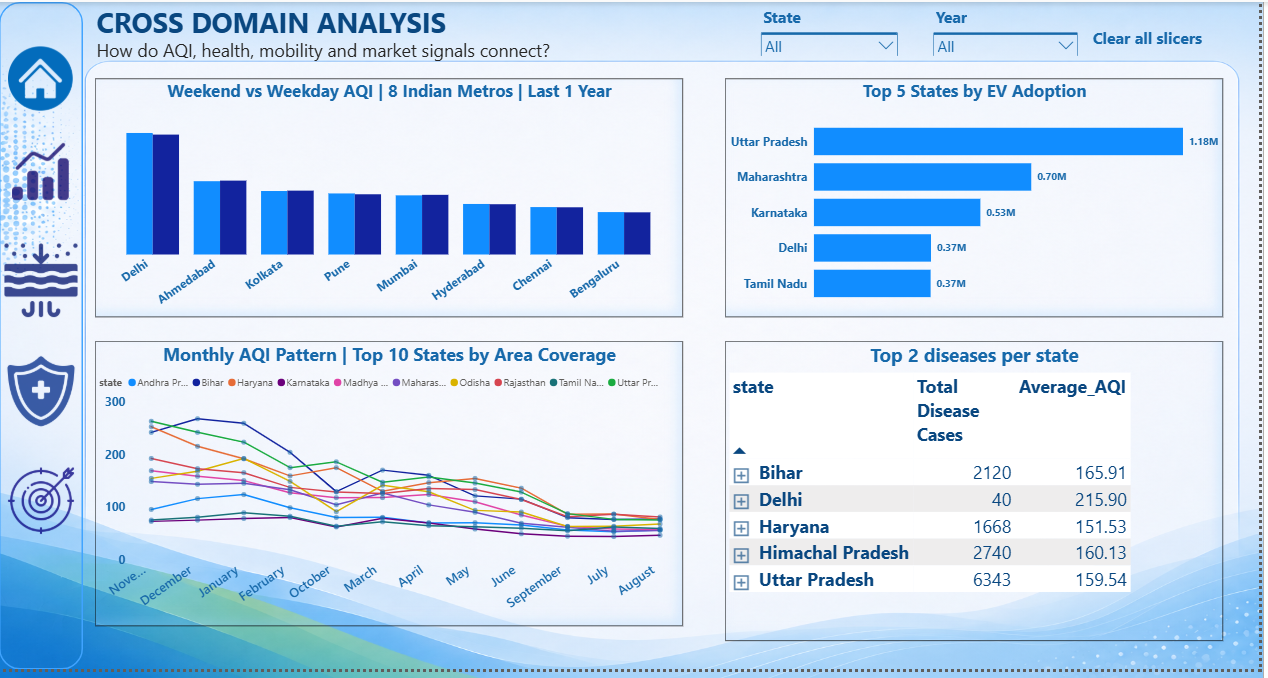

What the dashboard file says about the page in this screenshot:
{"tool":"powerbi","page":{"name":"Cross-Domain Analysis","canvas":[1700,900],"ordinal":4},"visuals":[{"type":"clusteredColumnChart","title":"Weekend vs Weekday AQI | 8 Indian Metros | Last 1 Year","fields":{"Y":["_Measures.Average_AQI"],"Category":["fact_AQI.area"],"Series":["Dim_date.Is Weekend"]},"box":[129.5,103.2,793.4,321.8],"z":0},{"type":"lineChart","title":"Monthly AQI Pattern | Top 10 States by Area Coverage","fields":{"Y":["_Measures.Average_AQI"],"Category":["Dim_Month.Month"],"Series":["Dim_State.state"]},"box":[129.5,457.4,793.4,384.6],"z":1000},{"type":"clusteredBarChart","title":"Top 5 States by EV Adoption","fields":{"Category":["Dim_State.state"],"Y":["_Measures.EV_Vehicles"]},"box":[979.6,103.2,672,321.8],"z":2000},{"type":"pivotTable","title":"Top 2 diseases per state","fields":{"Rows":["Dim_State.state","Disease.disease_illness_name"],"Values":["_Measures.Total Disease Cases","_Measures.Average_AQI"]},"box":[979.6,457.4,672,404.8],"z":3000},{"type":"image","box":[12.1,50.6,87,105.2],"z":3001},{"type":"image","box":[12.1,176.1,87,105.2],"z":3002},{"type":"image","box":[0,325.9,113.3,99.2],"z":3003},{"type":"image","box":[0,475.6,113.3,99.2],"z":3004},{"type":"image","box":[0,623.4,113.3,99.2],"z":3005},{"type":"shape","box":[0,0,113.3,900.7],"z":3006},{"type":"textbox","box":[129.5,0,785.3,58.7],"z":3007},{"type":"textbox","box":[129.5,46.6,817.7,40.5],"z":3008},{"type":"actionButton","box":[1465.4,20.2,172,50.6],"z":3009},{"type":"slicer","fields":{"Values":["Dim_Month.Year"]},"box":[1250.9,0,214.5,72.9],"z":3010},{"type":"slicer","fields":{"Values":["Dim_State.state"]},"box":[1018.1,0,204.4,72.9],"z":3011}]}

Visuals, with their boxes in screenshot pixels (x1, y1, x2, y2), scaled from the page's 1700x900 canvas onto the 1268x678 screenshot:
"Weekend vs Weekday AQI | 8 Indian Metros | Last 1 Year" clusteredColumnChart: detection(97, 78, 688, 320)
"Monthly AQI Pattern | Top 10 States by Area Coverage" lineChart: detection(97, 345, 688, 634)
"Top 5 States by EV Adoption" clusteredBarChart: detection(731, 78, 1232, 320)
"Top 2 diseases per state" pivotTable: detection(731, 345, 1232, 650)
image: detection(9, 38, 74, 117)
image: detection(9, 133, 74, 212)
image: detection(0, 246, 85, 320)
image: detection(0, 358, 85, 433)
image: detection(0, 470, 85, 544)
shape: detection(0, 0, 85, 677)
textbox: detection(97, 0, 682, 44)
textbox: detection(97, 35, 706, 66)
actionButton: detection(1093, 15, 1221, 53)
slicer - Dim_Month.Year: detection(933, 0, 1093, 55)
slicer - Dim_State.state: detection(759, 0, 912, 55)
